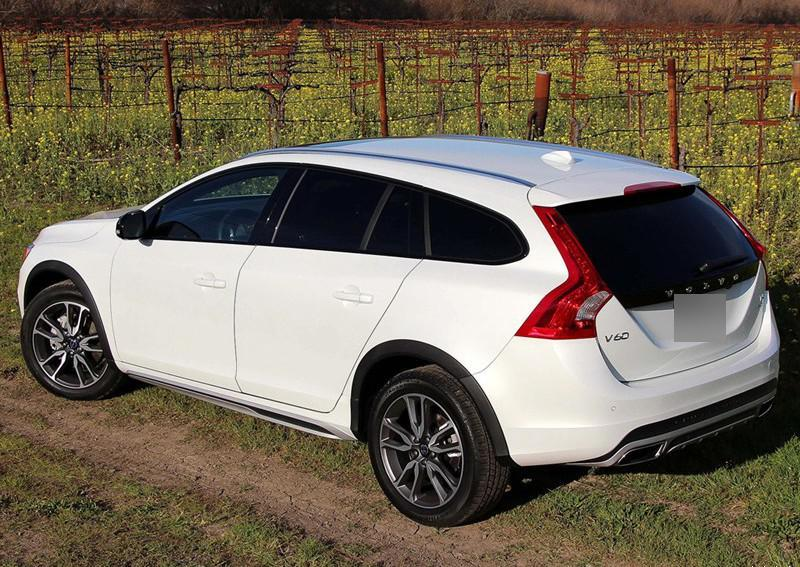Wagon: (15, 132, 789, 529)
